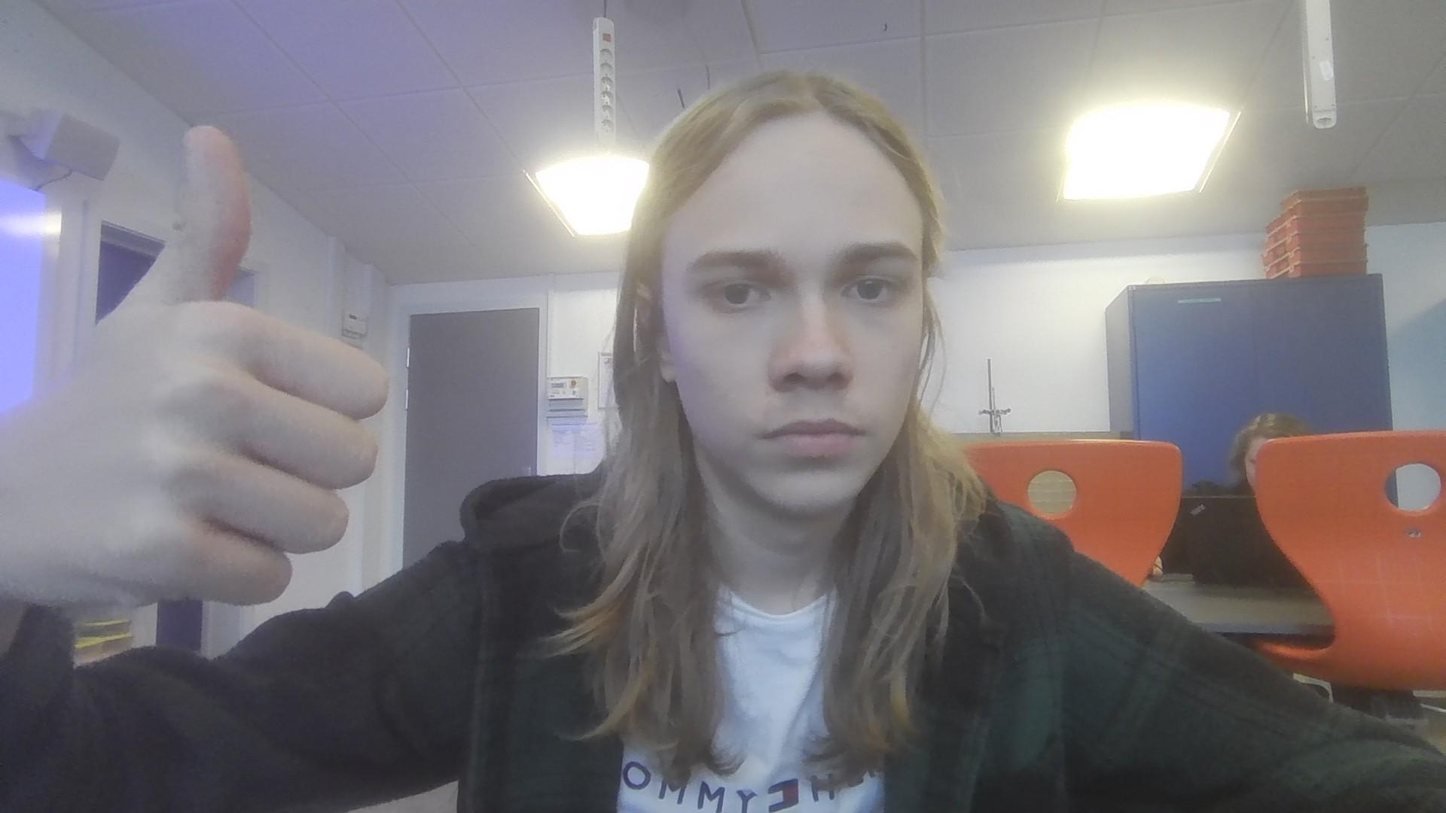thumbs up: (0, 119, 390, 646)
